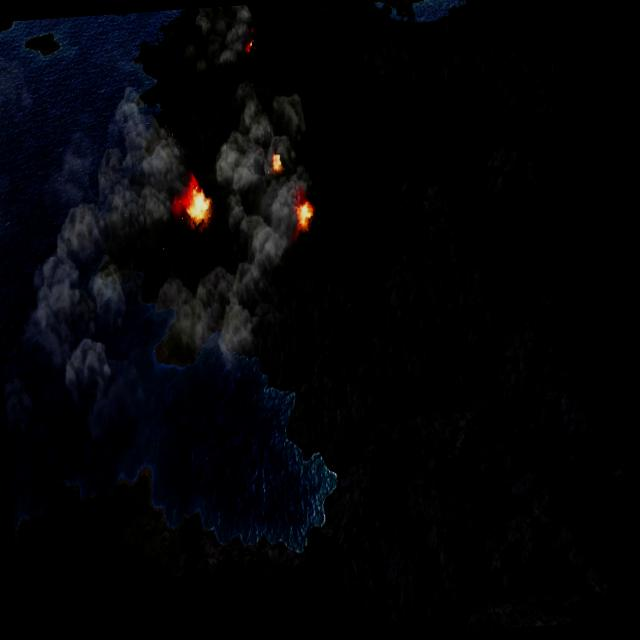fire: (178, 175, 212, 228), (296, 198, 316, 235), (268, 150, 284, 179), (244, 36, 256, 56)
smoke: (8, 69, 328, 446), (180, 4, 258, 80)
